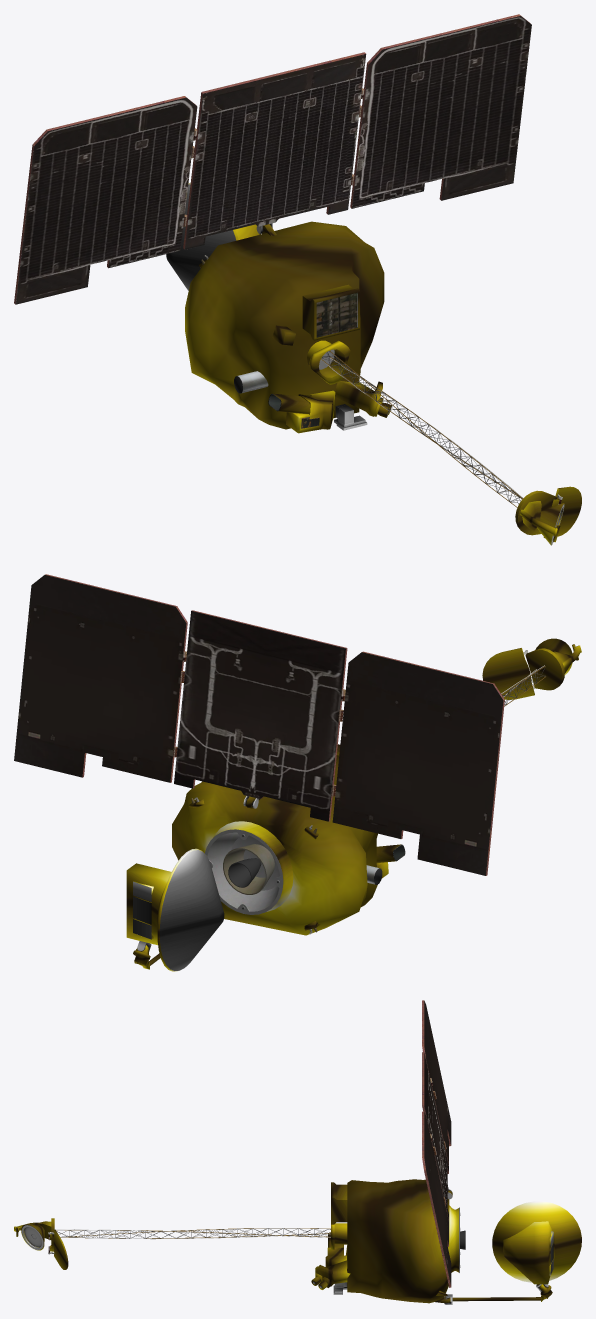
File: odyssey.glb
3 views of the same model, one above another, from view 1: azimuth 30°, elevation 25°; view 2: azimuth 150°, elevation 25°; view 3: azimuth 270°, elevation 25° (orthographic). The views are drawn at different scales.
Parts seen in each view (by area): view 1: shiny_panel, foil_gold, tex_boom, tex_01, foil_silver; view 2: tex_01, shiny_panel, foil_gold, foil_silver, tex_04; view 3: foil_gold, tex_01, shiny_panel, tex_boom.
Boxes of the visible parts, x1,y1,x2,y2 form: shiny_panel: (14, 14, 531, 369); foil_gold: (185, 183, 581, 545); tex_boom: (320, 351, 523, 507); tex_01: (183, 88, 562, 504); foil_silver: (166, 184, 242, 393); tex_01: (14, 575, 534, 887); shiny_panel: (45, 574, 504, 914); foil_gold: (126, 638, 581, 971); foil_silver: (133, 850, 382, 970); tex_04: (191, 798, 378, 932); foil_gold: (14, 1179, 581, 1303); tex_01: (48, 1001, 546, 1303); shiny_panel: (422, 1000, 460, 1287); tex_boom: (56, 1228, 330, 1239).
Size of the model in its own units: 5.67 by 3.36 by 8.22.
9 materials, 9 textured.
